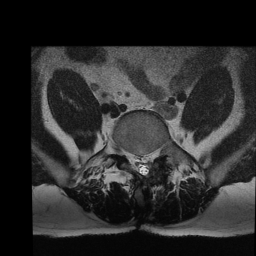CCS_normal: (137, 145, 146, 179)
LFS_normal: (153, 140, 161, 164)
LLS_normal: (146, 145, 153, 175)
RFS_normal: (121, 138, 128, 164)
RLS_normal: (129, 144, 137, 174)
